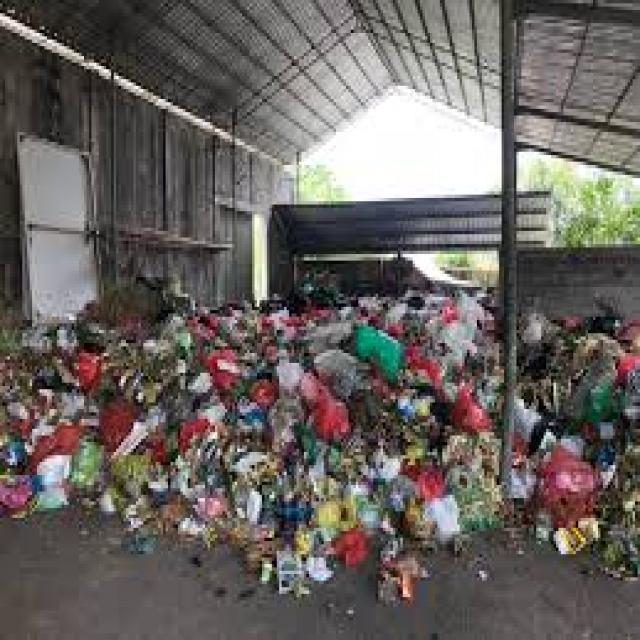heap: (109, 310, 512, 511)
